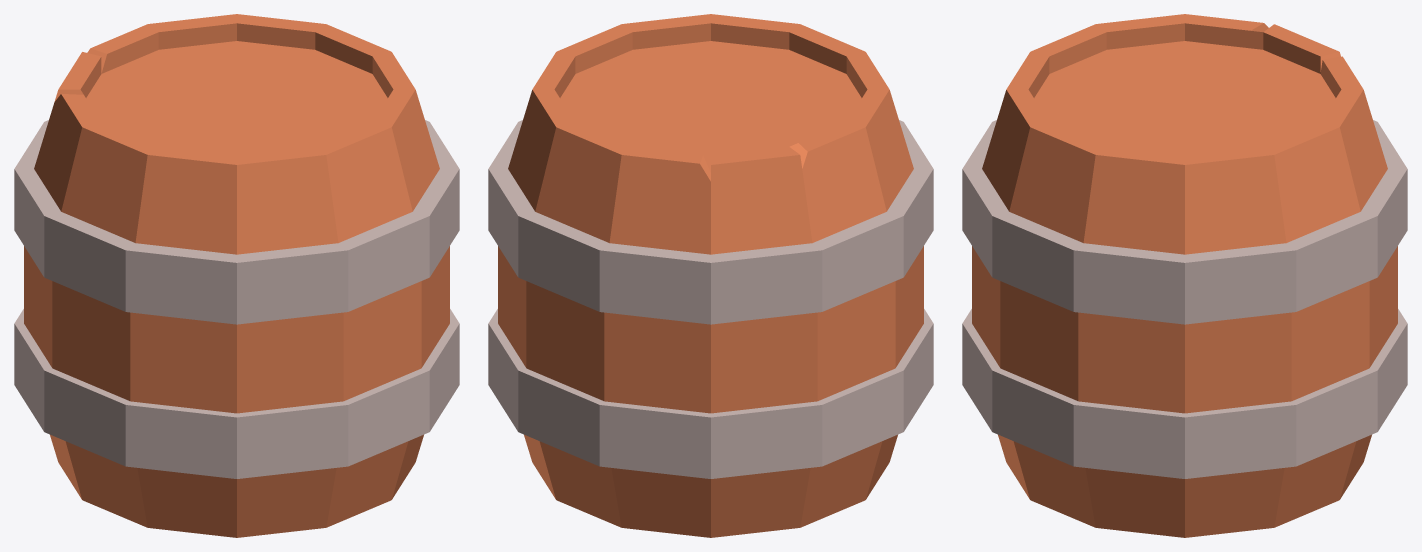
File: Bochka.fbx
3 views of the same model, side by side, from view 1: azimuth 30°, elevation 25°; view 2: azimuth 150°, elevation 25°; view 3: azimuth 270°, elevation 25° (orthographic).
Visible parts, largest first — view 1: Бочка; view 2: Бочка; view 3: Бочка.
Boxes of the visible parts, left/top/right/bottom form: Бочка: left=14, top=14, right=459, bottom=537; Бочка: left=488, top=14, right=933, bottom=537; Бочка: left=962, top=14, right=1407, bottom=537.
Size of the model in its own units: 71.63 by 66.22 by 71.63.
